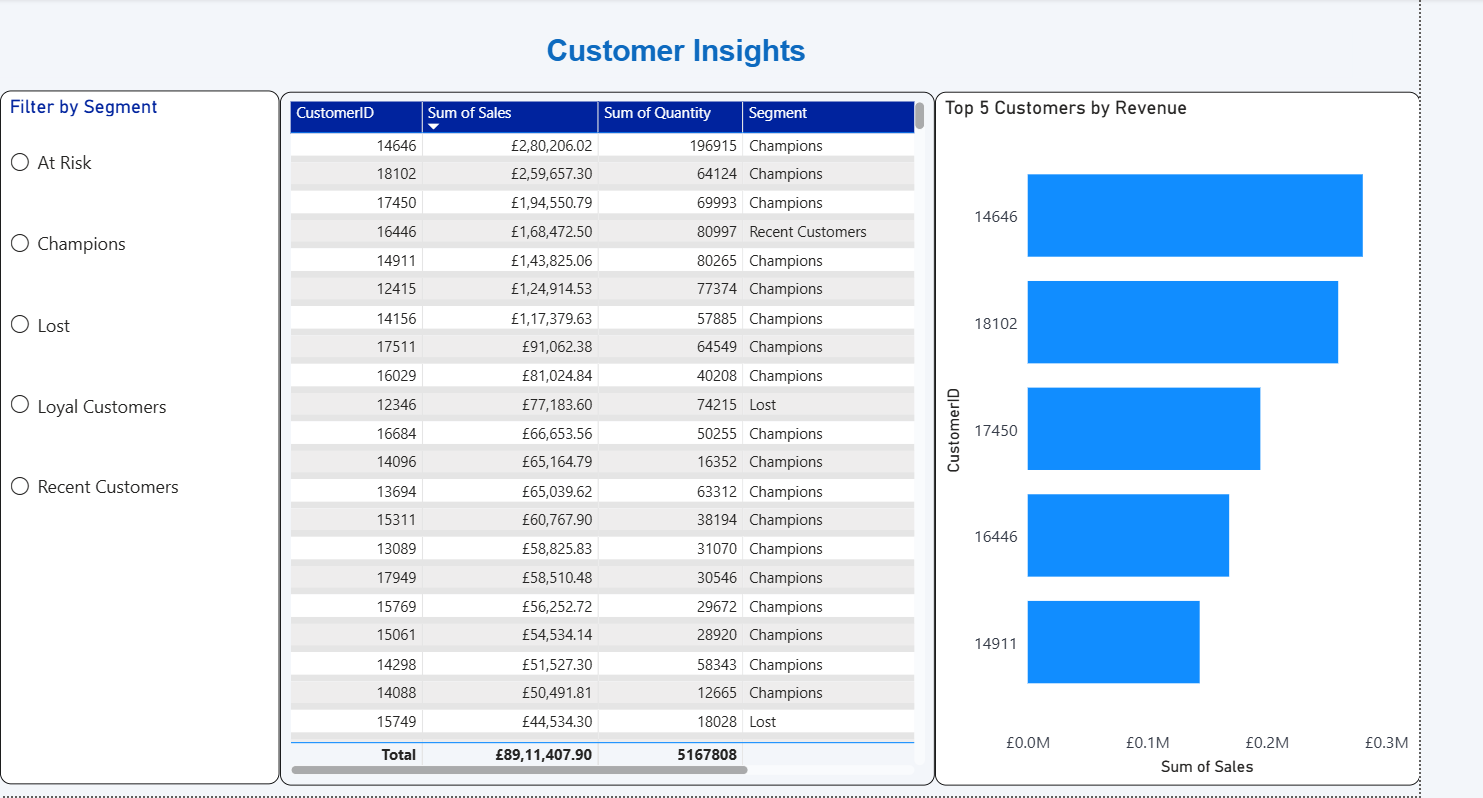

The page's visual inventory and layout, read from the dashboard file:
{"tool":"powerbi","page":{"name":"Page 2","canvas":[1280,720],"ordinal":1},"visuals":[{"type":"tableEx","fields":{"Values":["clean_retail.CustomerID","Sum(clean_retail.Sales)","Sum(clean_retail.Quantity)","rfm_segments.Segment"]},"box":[252.5,84.2,590.4,625.5],"z":0},{"type":"textbox","box":[0,28.3,1219.6,43.2],"z":1000},{"type":"listSlicer","title":"Filter by  Segment","fields":{"Values":["rfm_segments.Segment"]},"box":[0,83.6,252.3,626],"z":2000},{"type":"clusteredBarChart","title":"Top 5 Customers by Revenue","fields":{"Category":["clean_retail.CustomerID"],"Y":["Sum(clean_retail.Sales)"]},"box":[843,84.2,437.3,625.5],"z":3000}]}

Visuals, with their boxes in screenshot pixels (x1, y1, x2, y2):
tableEx - clean_retail.CustomerID x Sum(clean_retail.Sales): x1=276, y1=100, x2=923, y2=785
textbox: x1=0, y1=39, x2=1335, y2=86
"Filter by  Segment" listSlicer: x1=0, y1=99, x2=276, y2=785
"Top 5 Customers by Revenue" clusteredBarChart: x1=923, y1=100, x2=1402, y2=785
